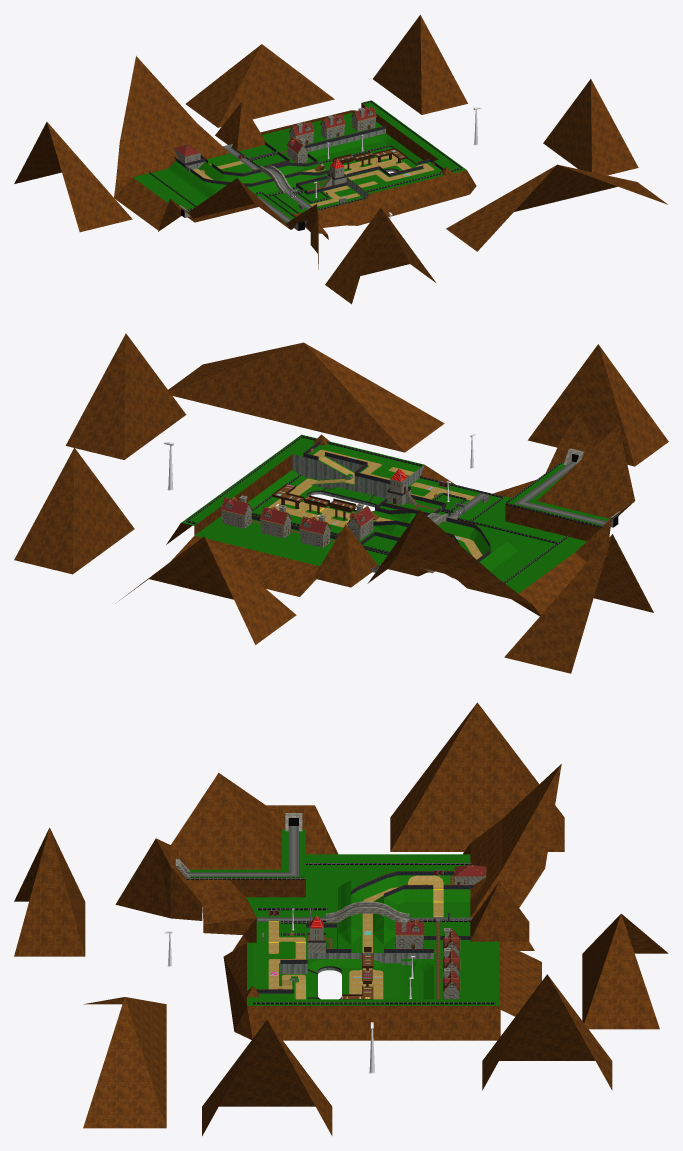
The picture shows the model from 3 angles, top to bottom: view 1: azimuth 30°, elevation 25°; view 2: azimuth 150°, elevation 25°; view 3: azimuth 270°, elevation 25°; orthographic projection. The views are drawn at different scales.
Visible parts, largest first — view 1: l2_Main-WAND_BERG, l2_Main-gras_fail_drauf_bleiben1, l2_Main-gras, l2_Main-Wand10, l2_Main-ROAD_normal_mit_sand_dreckroad_llll, l2_Main-wand_gitter_metall_effect, l2_Main-wand_gitter_metall_effect_fuer_gross, l2_Main-Wand_gitter_medalleffekt, l2_Main-wand78, l2_Main-WAND_STEIN_wand_79856654, l2_Main-wand9, l2_Main-ROAD_road_5465464df (+2 smaller); view 2: l2_Main-WAND_BERG, l2_Main-gras_fail_drauf_bleiben1, l2_Main-gras, l2_Main-ROAD_normal_mit_sand_dreckroad_llll, l2_Main-Wand10, l2_Main-wand_gitter_metall_effect, l2_Main-WAND_STEIN_wand_79856654, l2_Main-wand78, l2_Main-wand_gitter_metall_effect_fuer_gross, l2_Main-wand__brcke, l2_Main-wand9, l2_Main-WAND_GITTER_gitter_metall_wand; view 3: l2_Main-WAND_BERG, l2_Main-gras_fail_drauf_bleiben1, l2_Main-gras, l2_Main-ROAD_normal_mit_sand_dreckroad_llll, l2_Main-wand_gitter_metall_effect, l2_Main-Wand10, l2_Main-WAND_STEIN_wand_79856654, l2_Main-wand_hahaha, l2_Main-wand78, l2_Main-Wand_gitter_medalleffekt, l2_Main-wand9, l2_Main-ROAD_road_5465464df.
Boxes of the visible parts, x1=… form: l2_Main-WAND_BERG: x1=14, y1=15, x2=667, y2=304; l2_Main-gras_fail_drauf_bleiben1: x1=133, y1=100, x2=466, y2=223; l2_Main-gras: x1=176, y1=146, x2=441, y2=213; l2_Main-Wand10: x1=173, y1=107, x2=375, y2=187; l2_Main-ROAD_normal_mit_sand_dreckroad_llll: x1=193, y1=154, x2=434, y2=206; l2_Main-wand_gitter_metall_effect: x1=148, y1=100, x2=462, y2=217; l2_Main-wand_gitter_metall_effect_fuer_gross: x1=263, y1=125, x2=385, y2=194; l2_Main-Wand_gitter_medalleffekt: x1=174, y1=155, x2=318, y2=186; l2_Main-wand78: x1=174, y1=107, x2=376, y2=156; l2_Main-WAND_STEIN_wand_79856654: x1=197, y1=129, x2=397, y2=198; l2_Main-wand9: x1=173, y1=106, x2=376, y2=172; l2_Main-ROAD_road_5465464df: x1=226, y1=148, x2=311, y2=209; l2_Main-WAND_BERG: x1=14, y1=333, x2=668, y2=673; l2_Main-gras_fail_drauf_bleiben1: x1=181, y1=434, x2=608, y2=593; l2_Main-gras: x1=252, y1=443, x2=500, y2=555; l2_Main-ROAD_normal_mit_sand_dreckroad_llll: x1=268, y1=449, x2=482, y2=559; l2_Main-Wand10: x1=221, y1=477, x2=434, y2=572; l2_Main-wand_gitter_metall_effect: x1=186, y1=435, x2=602, y2=583; l2_Main-WAND_STEIN_wand_79856654: x1=292, y1=454, x2=424, y2=507; l2_Main-wand78: x1=221, y1=497, x2=373, y2=534; l2_Main-wand_gitter_metall_effect_fuer_gross: x1=251, y1=494, x2=446, y2=544; l2_Main-wand__brcke: x1=271, y1=483, x2=405, y2=520; l2_Main-wand9: x1=220, y1=480, x2=406, y2=545; l2_Main-WAND_GITTER_gitter_metall_wand: x1=303, y1=440, x2=390, y2=484; l2_Main-WAND_BERG: x1=14, y1=702, x2=668, y2=1135; l2_Main-gras_fail_drauf_bleiben1: x1=189, y1=829, x2=499, y2=1005; l2_Main-gras: x1=253, y1=875, x2=470, y2=999; l2_Main-ROAD_normal_mit_sand_dreckroad_llll: x1=268, y1=875, x2=443, y2=999; l2_Main-wand_gitter_metall_effect: x1=185, y1=863, x2=495, y2=1004; l2_Main-Wand10: x1=307, y1=876, x2=485, y2=999; l2_Main-WAND_STEIN_wand_79856654: x1=280, y1=953, x2=433, y2=981; l2_Main-wand_hahaha: x1=175, y1=813, x2=409, y2=922; l2_Main-wand78: x1=395, y1=865, x2=485, y2=989; l2_Main-Wand_gitter_medalleffekt: x1=351, y1=871, x2=476, y2=897; l2_Main-wand9: x1=309, y1=865, x2=486, y2=998; l2_Main-ROAD_road_5465464df: x1=257, y1=905, x2=472, y2=921.
Size of what is drawn, in the model's own units: 325625 by 65790 by 285513.
Materials: 52 (52 with a texture image).
